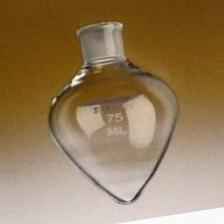Pear shaped flask: (33, 22, 181, 204)
